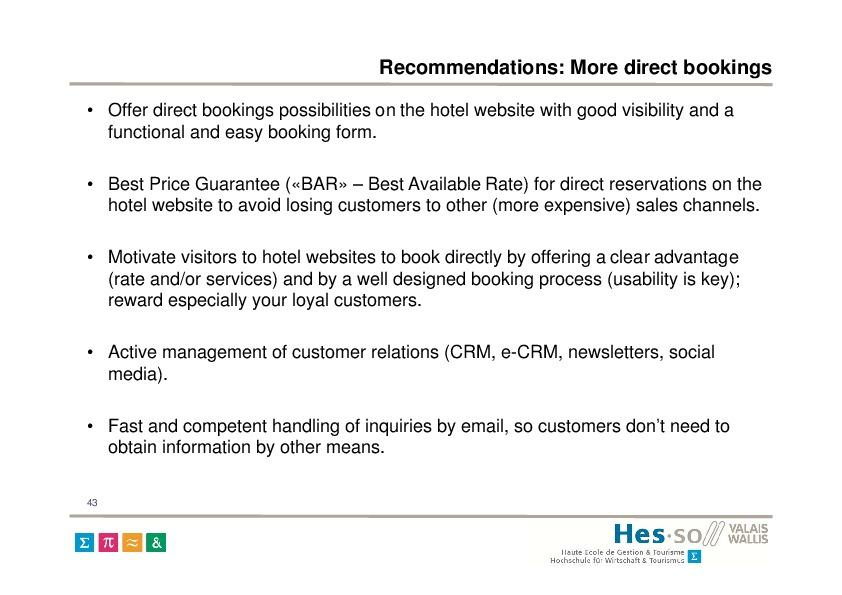paragraph: (62, 93, 777, 474)
title: (373, 48, 782, 86)
